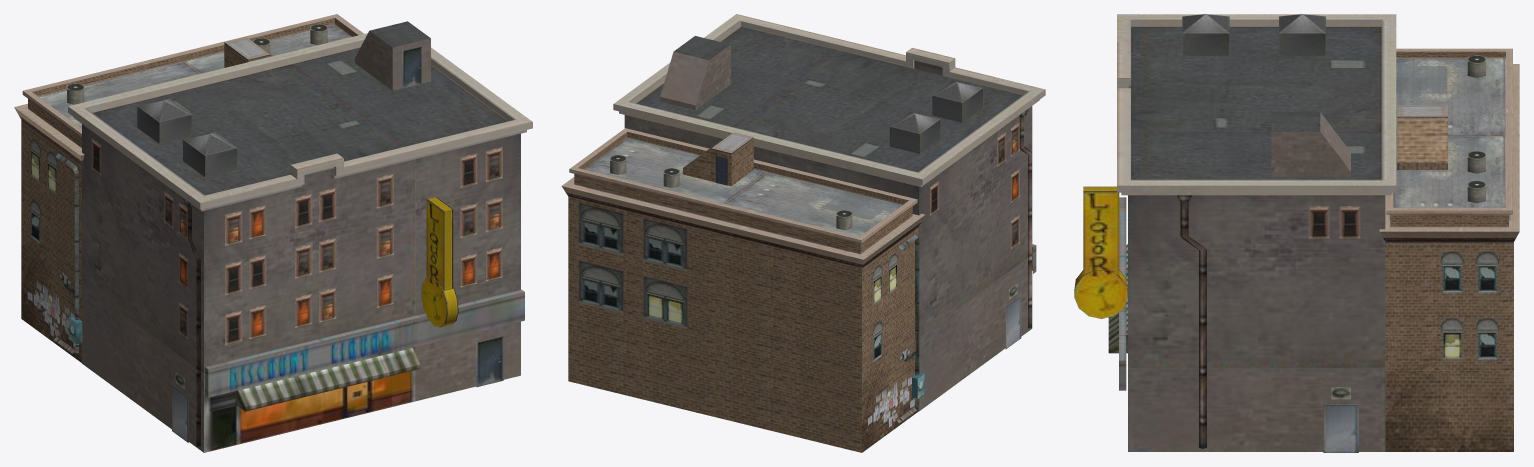
File: supermarket.glb
The picture shows the model from 3 angles, left to right: view 1: azimuth 30°, elevation 25°; view 2: azimuth 150°, elevation 25°; view 3: azimuth 270°, elevation 25°; orthographic projection. The views are drawn at different scales.
Parts seen in each view (by area): view 1: pCube21, pCube20, polySurface102, polySurface823, polySurface139, polySurface99, polySurface101, pCube133, pCube24, pCube132, polySurface821, pCube131 (+32 smaller); view 2: pCube21, polySurface139, polySurface102, pCube133, pCube132, pCube131, pCube11, pCube20, polySurface823, pCube12, pCube13, pCube24 (+11 smaller); view 3: pCube21, polySurface102, pCube20, polySurface139, pCube11, polySurface823, pCube12, pCube13, pCube24, polySurface142, pCube22, pCylinder8 (+14 smaller).
Boxes of the visible parts, x1,y1,x2,y2 form: pCube21: (68,33,532,373); pCube20: (82,284,520,452); polySurface102: (92,64,404,195); polySurface823: (293,47,508,146); polySurface139: (14,14,363,163); polySurface99: (204,315,419,397); polySurface101: (236,348,420,411); pCube133: (21,249,81,362); pCube24: (355,21,430,90); pCube132: (21,184,81,292); polySurface821: (416,289,524,345); pCube131: (21,120,81,228); pCube21: (613,14,1045,337); polySurface139: (561,128,924,267); polySurface102: (732,50,1022,172); pCube133: (715,352,918,452); pCube132: (715,289,914,387); pCube131: (715,227,918,327); pCube11: (568,316,715,416); pCube20: (918,255,1032,411); polySurface823: (636,26,836,126); pCube12: (568,256,715,351); pCube13: (568,196,715,291); pCube24: (660,36,730,109); pCube21: (1117,14,1396,368); polySurface102: (1131,26,1382,132); pCube20: (1128,368,1385,451); polySurface139: (1380,48,1519,241); pCube11: (1385,378,1513,451); polySurface823: (1131,132,1382,179); pCube12: (1385,310,1513,377); pCube13: (1385,242,1513,309); pCube24: (1271,112,1350,177); polySurface142: (1397,105,1447,169); pCube22: (1083,186,1119,274); pCylinder8: (1074,270,1127,318).
Size of the model in its own units: 1890 by 1590 by 2077.
2 materials, 2 textured.
